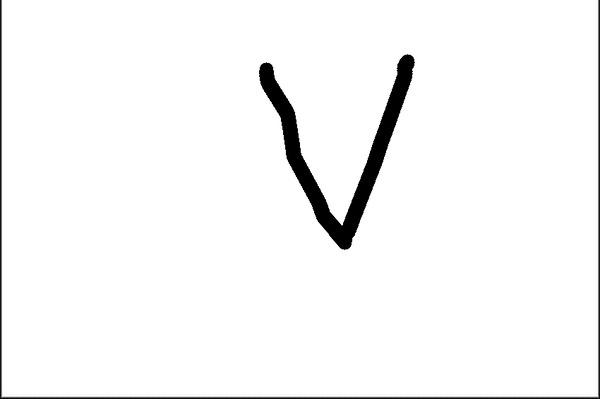V: (251, 47, 424, 252)
